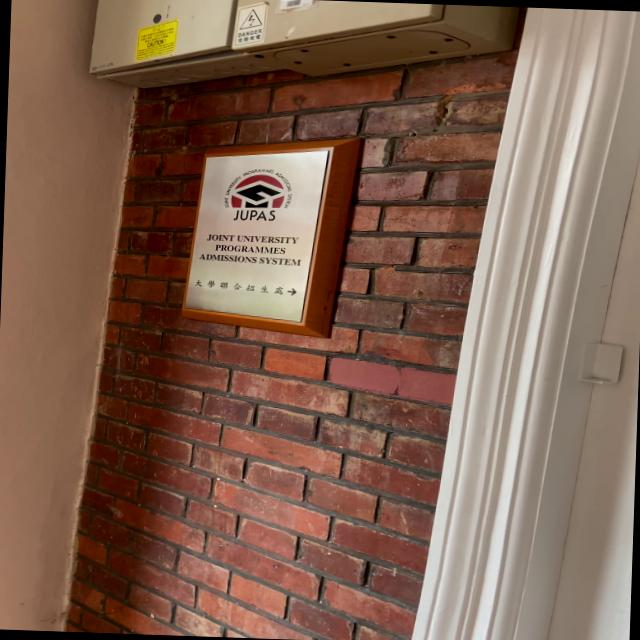jupasOffice: (174, 120, 376, 346)
